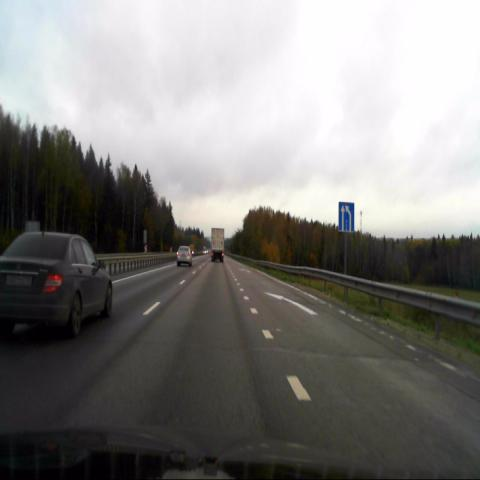5_15_5: (338, 201, 354, 232)
